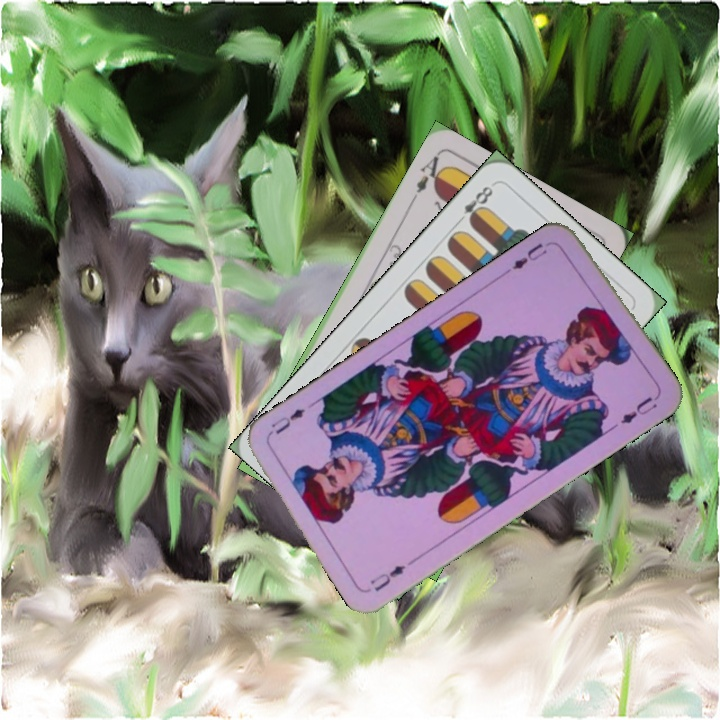E8: (452, 182, 496, 227)
EA: (412, 151, 449, 196)
EU: (366, 554, 419, 595), (502, 238, 550, 275)
